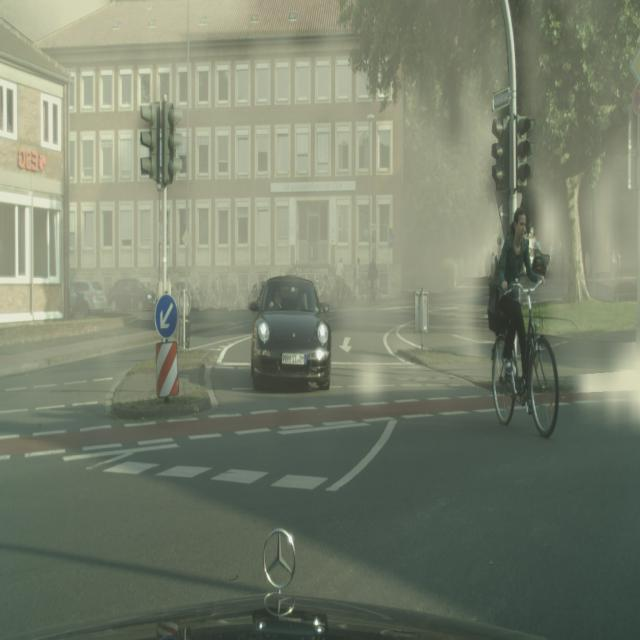car: (491, 279, 560, 438)
person: (498, 207, 546, 401), (367, 257, 379, 302), (335, 256, 345, 304)
truck: (250, 275, 331, 392), (107, 277, 156, 313), (70, 279, 106, 318)
